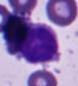L: (1, 22, 60, 64)
